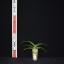leaf: (20, 41, 35, 47), (36, 47, 47, 53), (35, 43, 47, 47), (22, 45, 35, 48), (23, 48, 34, 51), (36, 48, 42, 51), (28, 48, 33, 49)
